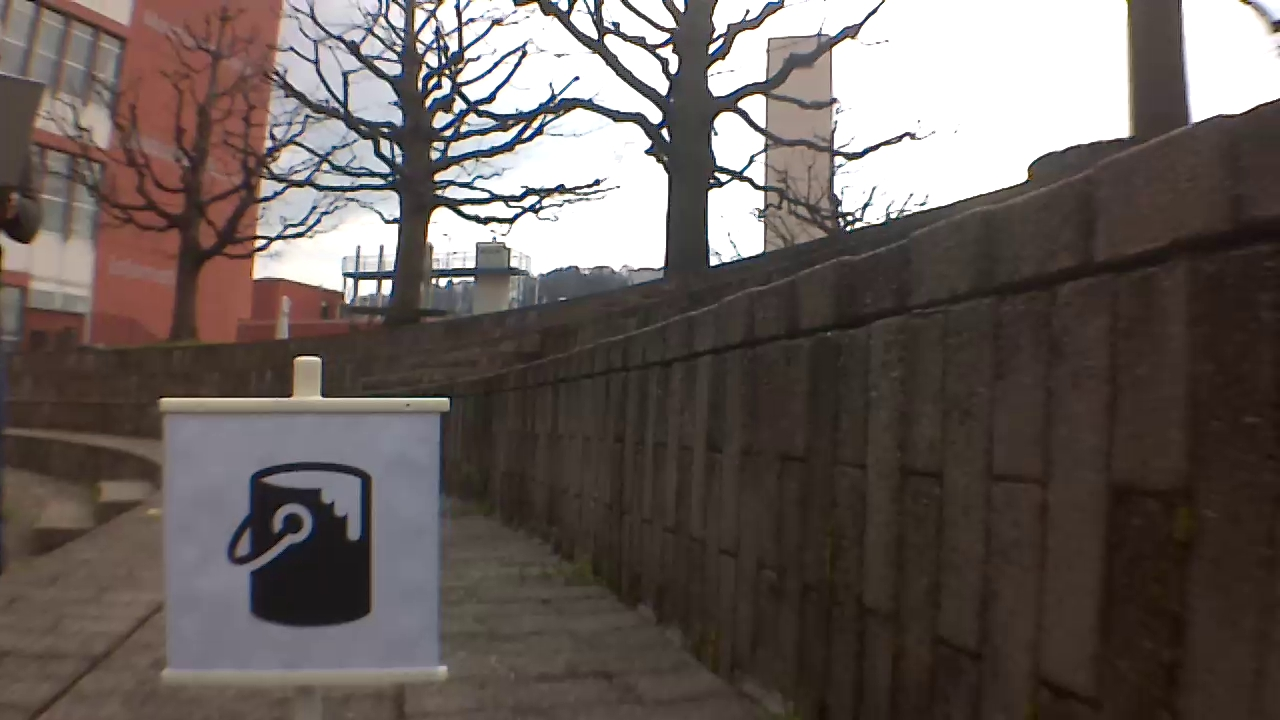bucket: (229, 457, 380, 625)
